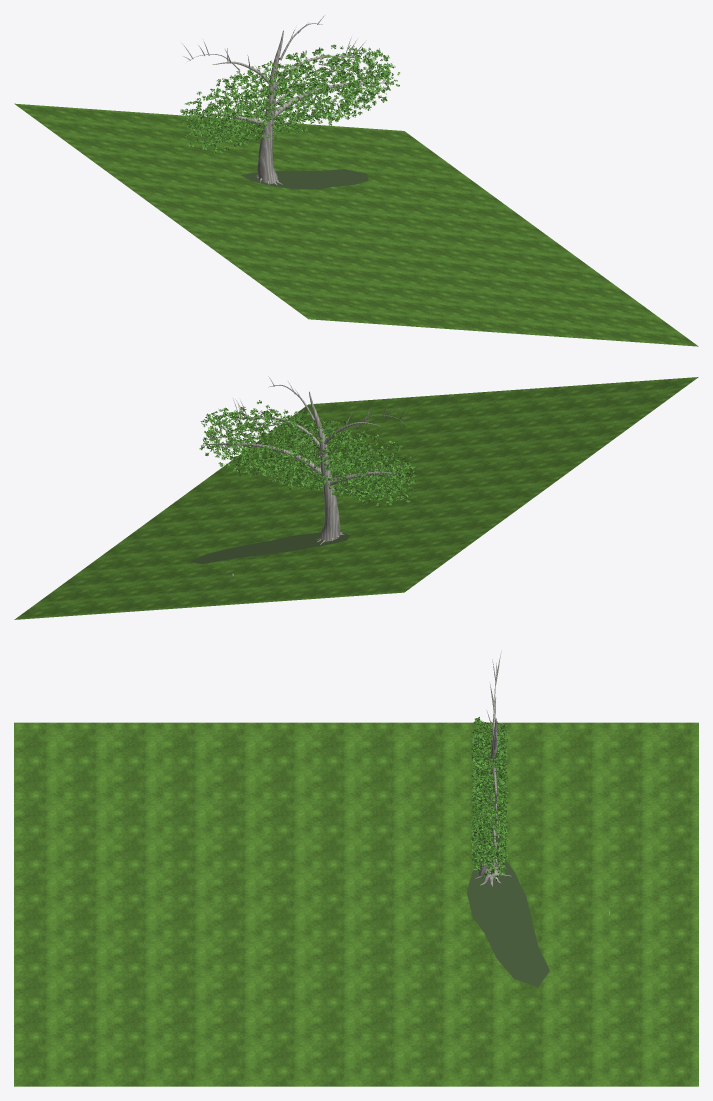
The model's file is Arbol_Monumental.fbx.
The picture shows the model from 3 angles, top to bottom: view 1: azimuth 30°, elevation 25°; view 2: azimuth 150°, elevation 25°; view 3: azimuth 270°, elevation 25°; orthographic projection. The views are drawn at different scales.
Visible parts, largest first — view 1: GEO-DREAM-tree-sloped-grass-hill, GEO-DREAM-tree-canopy-leaf-masses, GEO-DREAM-tree-runtime-canopy-shadow, GEO-DREAM-tree-main-trunk; view 2: GEO-DREAM-tree-sloped-grass-hill, GEO-DREAM-tree-canopy-leaf-masses, GEO-DREAM-tree-runtime-canopy-shadow, GEO-DREAM-tree-main-trunk; view 3: GEO-DREAM-tree-sloped-grass-hill, GEO-DREAM-tree-runtime-canopy-shadow, GEO-DREAM-tree-canopy-leaf-masses.
Boxes of the visible parts, bbox=[...] form: GEO-DREAM-tree-sloped-grass-hill: bbox=[14, 103, 698, 346]; GEO-DREAM-tree-canopy-leaf-masses: bbox=[180, 44, 399, 153]; GEO-DREAM-tree-runtime-canopy-shadow: bbox=[241, 169, 368, 189]; GEO-DREAM-tree-main-trunk: bbox=[257, 30, 283, 183]; GEO-DREAM-tree-sloped-grass-hill: bbox=[14, 377, 698, 619]; GEO-DREAM-tree-canopy-leaf-masses: bbox=[199, 400, 416, 505]; GEO-DREAM-tree-runtime-canopy-shadow: bbox=[190, 532, 349, 564]; GEO-DREAM-tree-main-trunk: bbox=[309, 391, 340, 541]; GEO-DREAM-tree-sloped-grass-hill: bbox=[14, 722, 698, 1086]; GEO-DREAM-tree-runtime-canopy-shadow: bbox=[466, 860, 549, 986]; GEO-DREAM-tree-canopy-leaf-masses: bbox=[471, 717, 508, 880].
Size of the model in its own units: 88 by 48.82 by 115.
